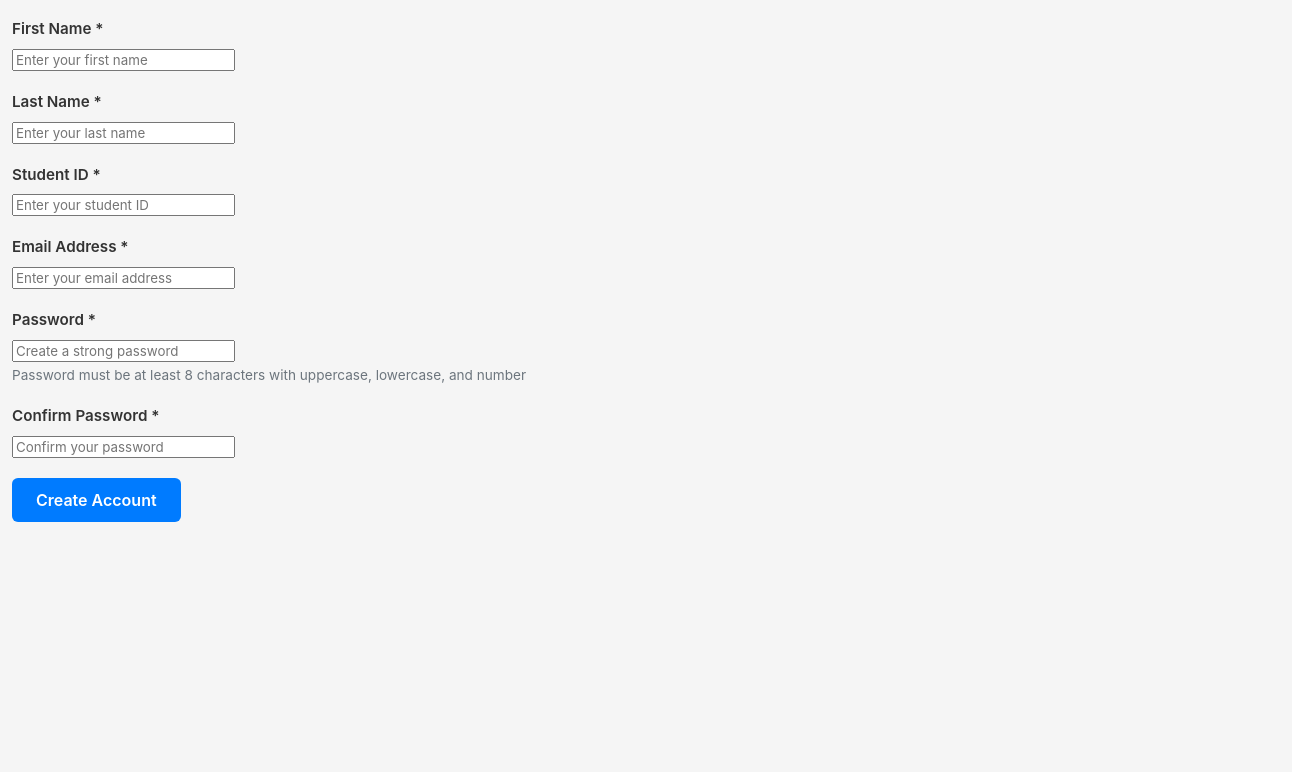
RegisterForm › displays validation error when passwords do not match
Type "Password123" into the password field labelled "Password *".
click(124, 351); type("Password123")  # box x1=12 y1=340 x2=235 y2=362
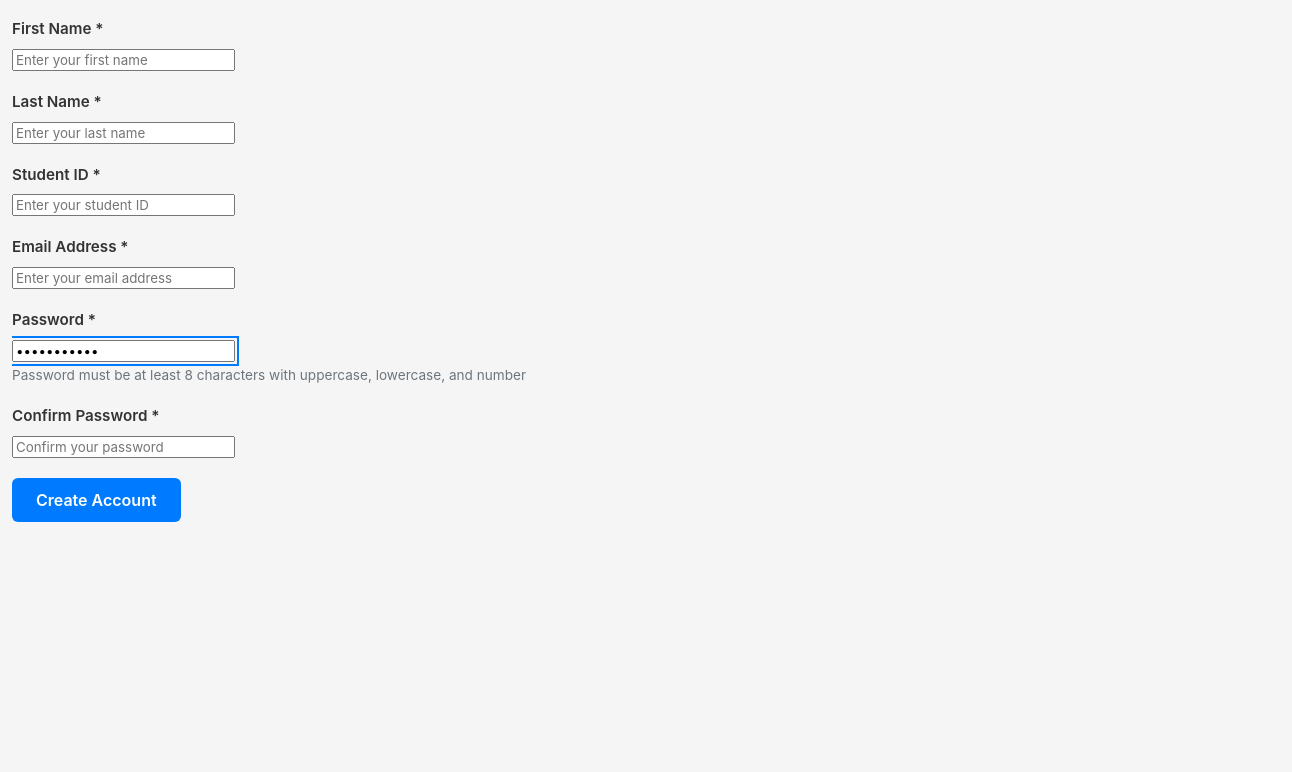
Type "DifferentPassword" into the password field labelled "Confirm Password *".
click(124, 447); type("DifferentPassword")  # box x1=12 y1=436 x2=235 y2=458
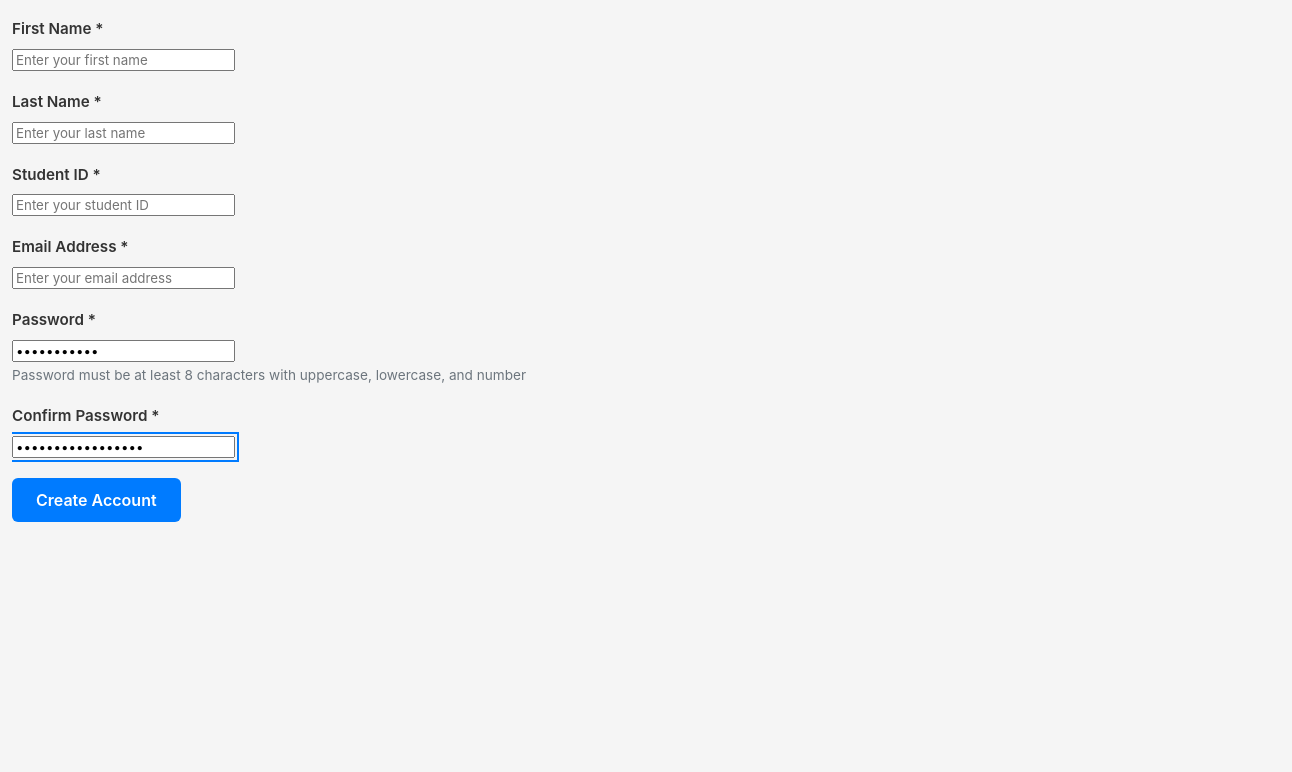
Click the button "Create Account".
click(96, 500)  # box x1=12 y1=478 x2=181 y2=522
(page scrolled)
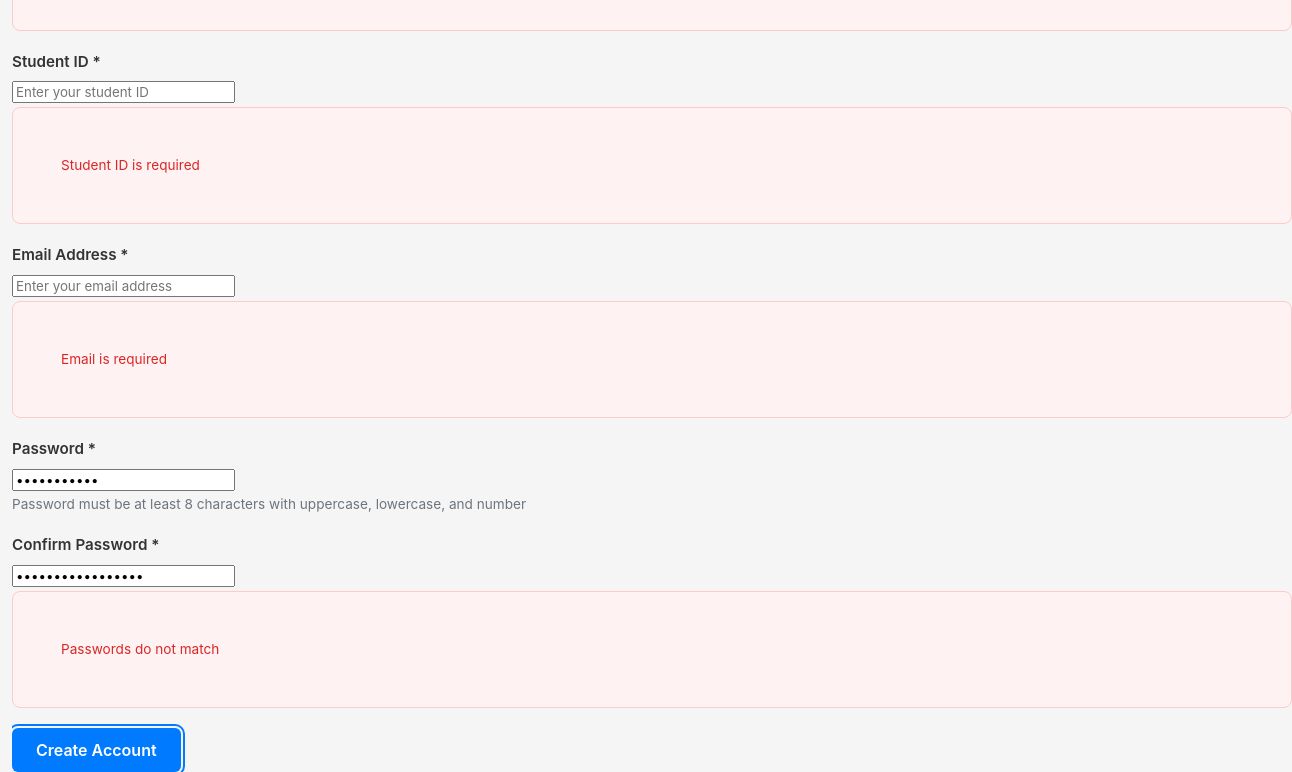
Expected: the text "Passwords do not match" is shown, x1=12 y1=591 x2=1291 y2=708
